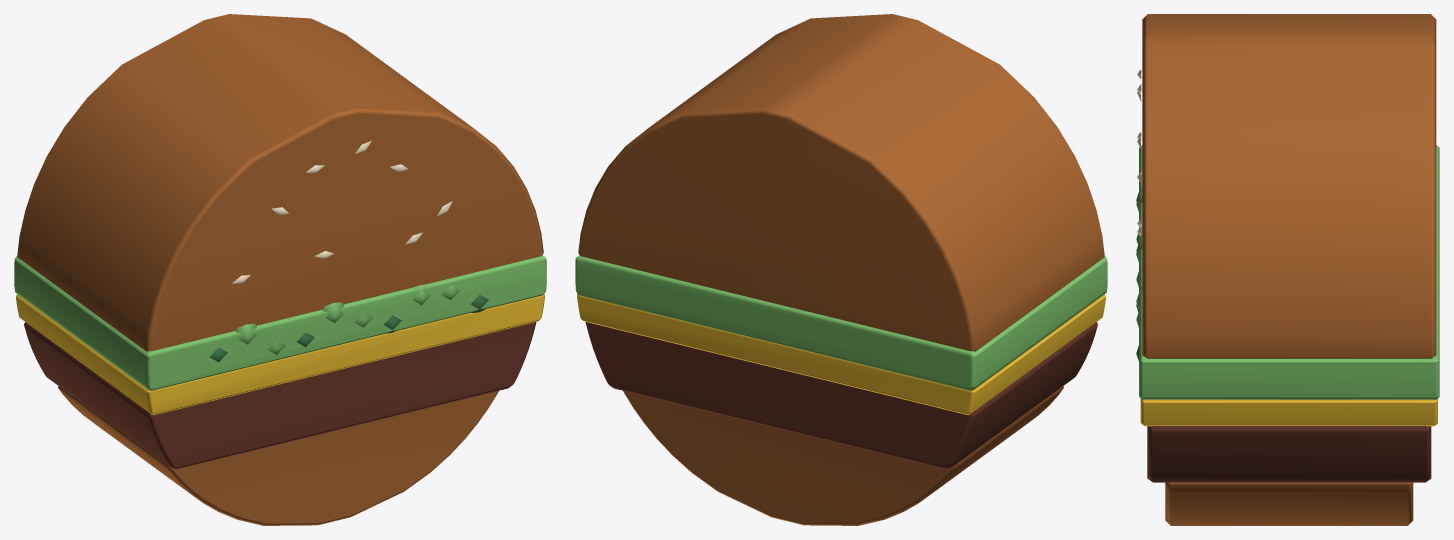
The model's file is snack_burger.glb.
3 views of the same model, side by side, from view 1: azimuth 30°, elevation 25°; view 2: azimuth 150°, elevation 25°; view 3: azimuth 270°, elevation 25° (orthographic). The views are drawn at different scales.
Visible parts, largest first — view 1: Toasted heel; view 2: Toasted heel; view 3: Toasted heel.
Part boxes in pixels (<box>): Toasted heel: <box>14,14,546,525</box>; Toasted heel: <box>575,14,1107,525</box>; Toasted heel: <box>1136,14,1439,525</box>.
Bounding box in the file's own units: 3 × 2.99 × 1.78.
